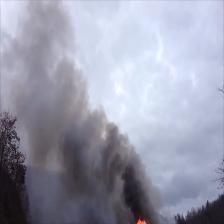fire: (136, 217, 147, 224)
smoke: (26, 9, 60, 151), (65, 108, 109, 189), (112, 148, 138, 213)
